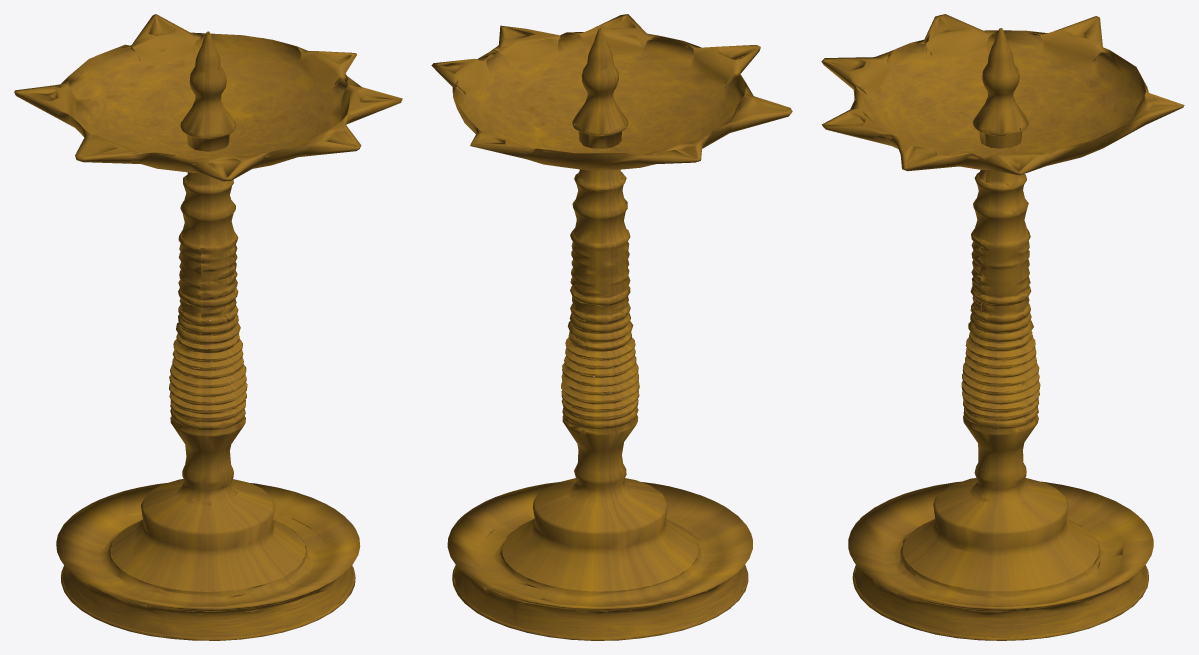
Rendered from brass_diya.glb.
3 views of the same model, side by side, from view 1: azimuth 30°, elevation 25°; view 2: azimuth 150°, elevation 25°; view 3: azimuth 270°, elevation 25° (orthographic).
Visible parts, largest first — view 1: Cylinder_Gold.003_0.001, Sphere, Cylinder, Cylinder_Gold.003_0.002; view 2: Cylinder_Gold.003_0.001, Sphere, Cylinder, Cylinder_Gold.003_0.002; view 3: Cylinder_Gold.003_0.001, Sphere, Cylinder, Cylinder_Gold.003_0.002.
Part boxes in pixels (x1=…): Cylinder_Gold.003_0.001: x1=62, y1=134, x2=353, y2=637; Sphere: x1=14, y1=14, x2=402, y2=181; Cylinder: x1=56, y1=31, x2=360, y2=640; Cylinder_Gold.003_0.002: x1=111, y1=31, x2=327, y2=614; Cylinder_Gold.003_0.001: x1=454, y1=131, x2=746, y2=637; Sphere: x1=431, y1=14, x2=792, y2=170; Cylinder: x1=447, y1=28, x2=752, y2=640; Cylinder_Gold.003_0.002: x1=478, y1=28, x2=706, y2=614; Cylinder_Gold.003_0.001: x1=854, y1=131, x2=1146, y2=637; Sphere: x1=821, y1=14, x2=1184, y2=175; Cylinder: x1=848, y1=28, x2=1153, y2=640; Cylinder_Gold.003_0.002: x1=881, y1=29, x2=1123, y2=611.
Bounding box in the file's own units: 2.45 × 4.04 × 2.4.
1 material, 1 textured.
